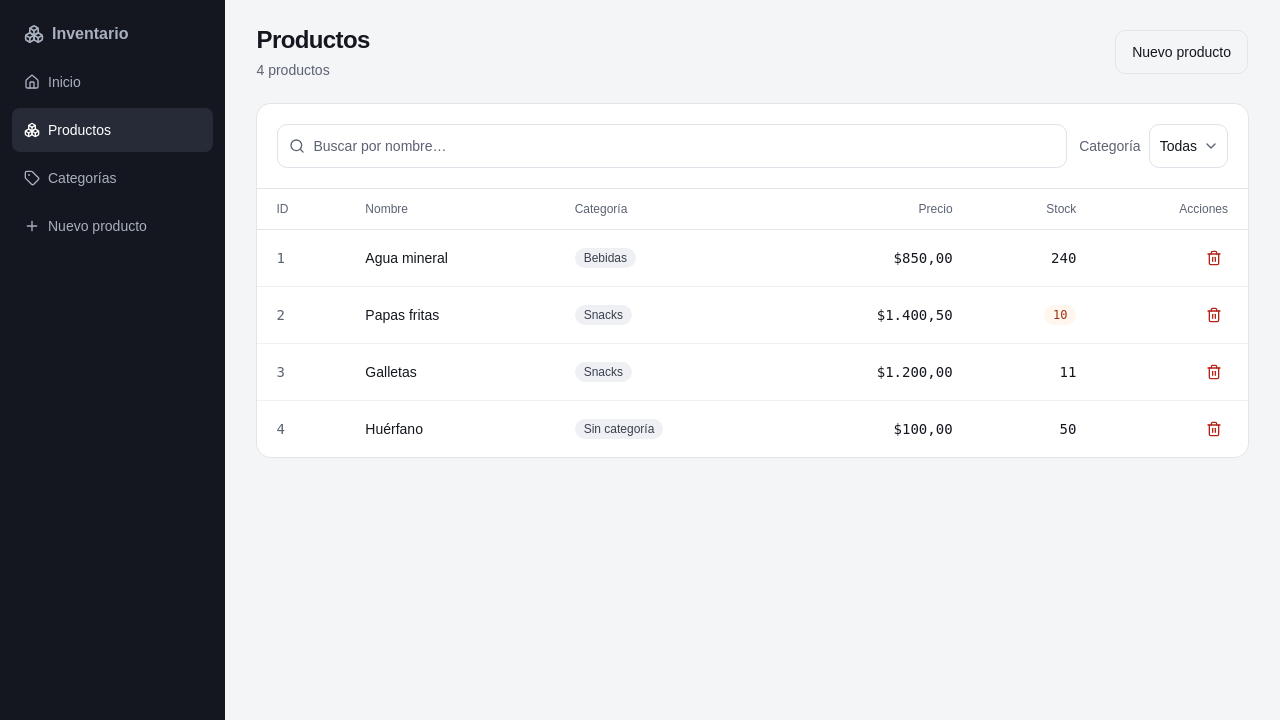
Test: ProductsPage › CA3: la búsqueda filtra sin distinguir mayúsculas y actualiza ?q=
Expected: the text "Agua mineral" is shown, [345,229,555,286]
Type "PAPAS" into the search field named "Buscar producto".
click(672, 146); type("PAPAS")  # box [276,124,1067,168]
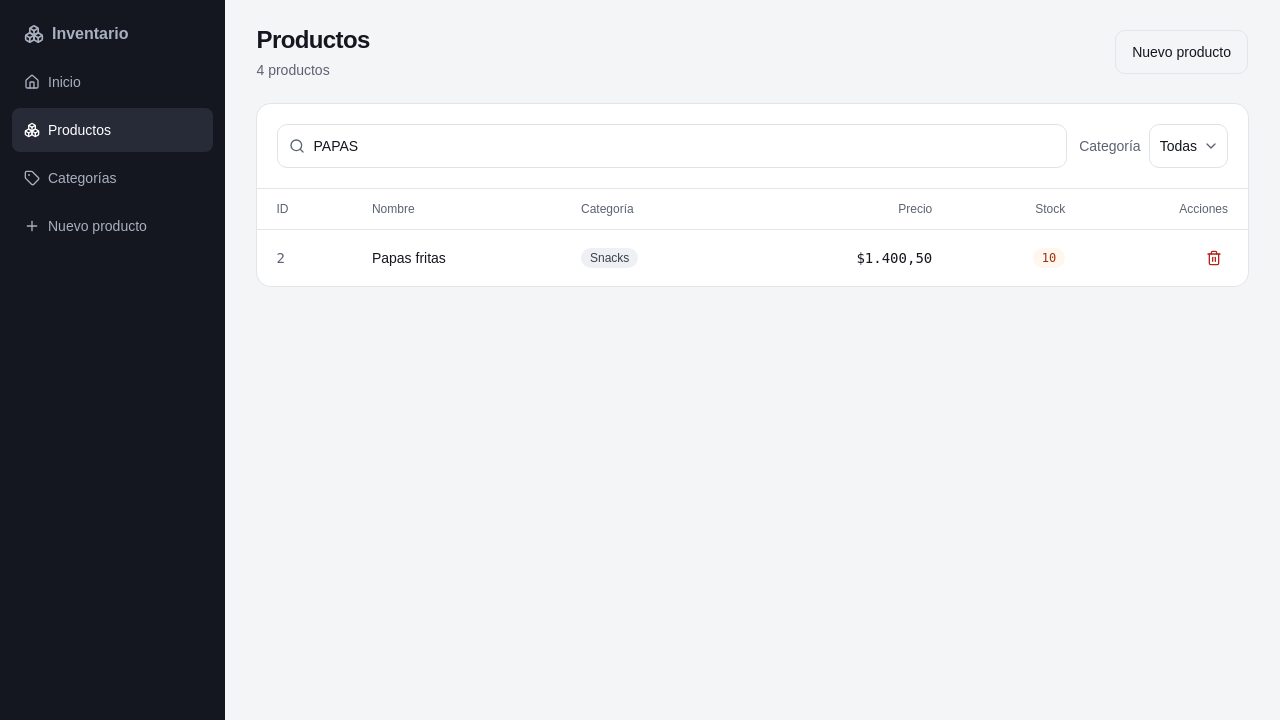
Expected: the text "Papas fritas" is shown, [352,229,561,286]
Now the text "Agua mineral" is gone
